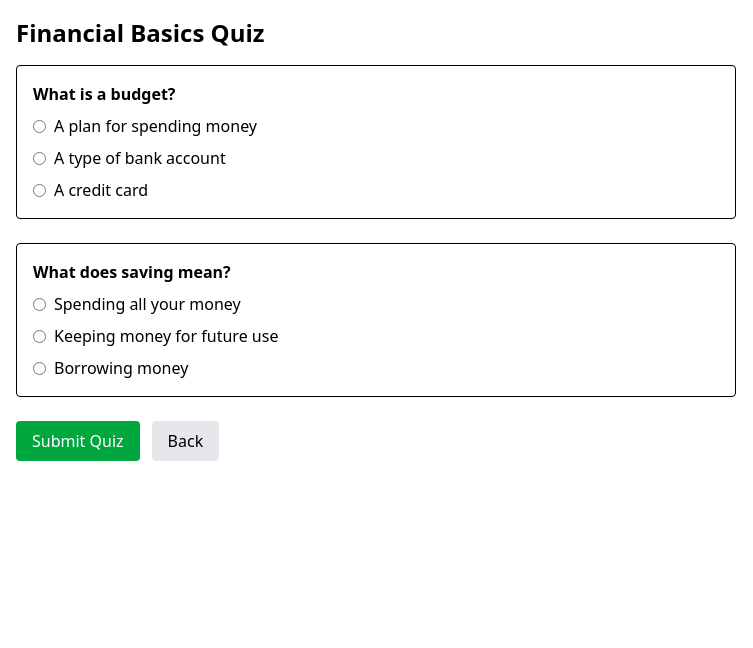
Test: Quiz › does not allocate pocket money when quiz is failed
The image size is (753, 648).
Expected: the heading "Financial Basics Quiz" is shown, [16, 16, 264, 49]
What coordinates should you click on to do the following:
click the radio button labelled "A plan for spending money"
I would click on:
 (40, 126)
Its box is [33, 120, 46, 132].
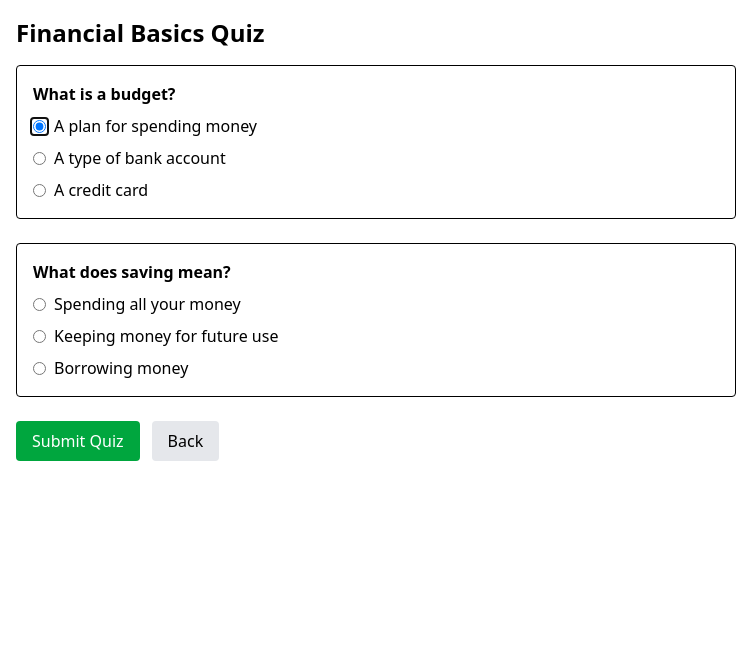
What coordinates should you click on to do the following:
click the button "Submit Quiz"
I would click on:
 (78, 441)
Its box is [16, 421, 140, 461].
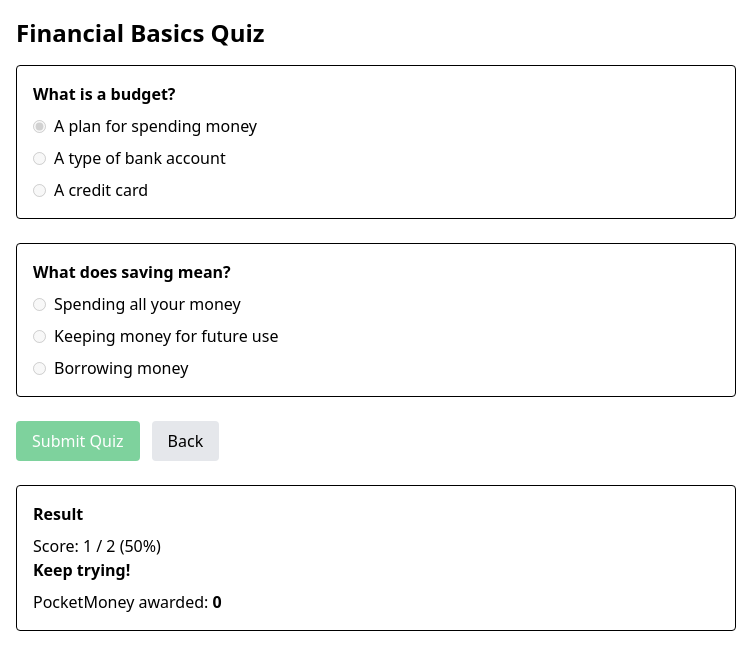
Expected: the heading "Result" is shown, [33, 503, 83, 525]
